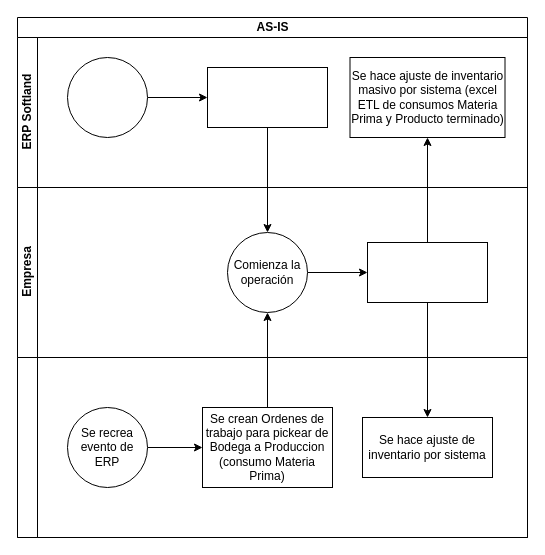
Image size: 545x555. Some labels were removed from this diagram. The box of each missing label's shape, as (x1, y1, x2, y2) in pixels:
Evento de negocio: (66, 56, 148, 138)
Se Crea Orden de trabajo: (206, 66, 328, 128)
Se produce producto terminado: (366, 242, 488, 302)
WMS Invas: (16, 356, 528, 538)
